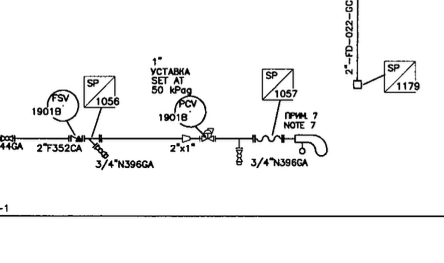Instrument-offset: (28, 86, 82, 124), (156, 94, 207, 129)
